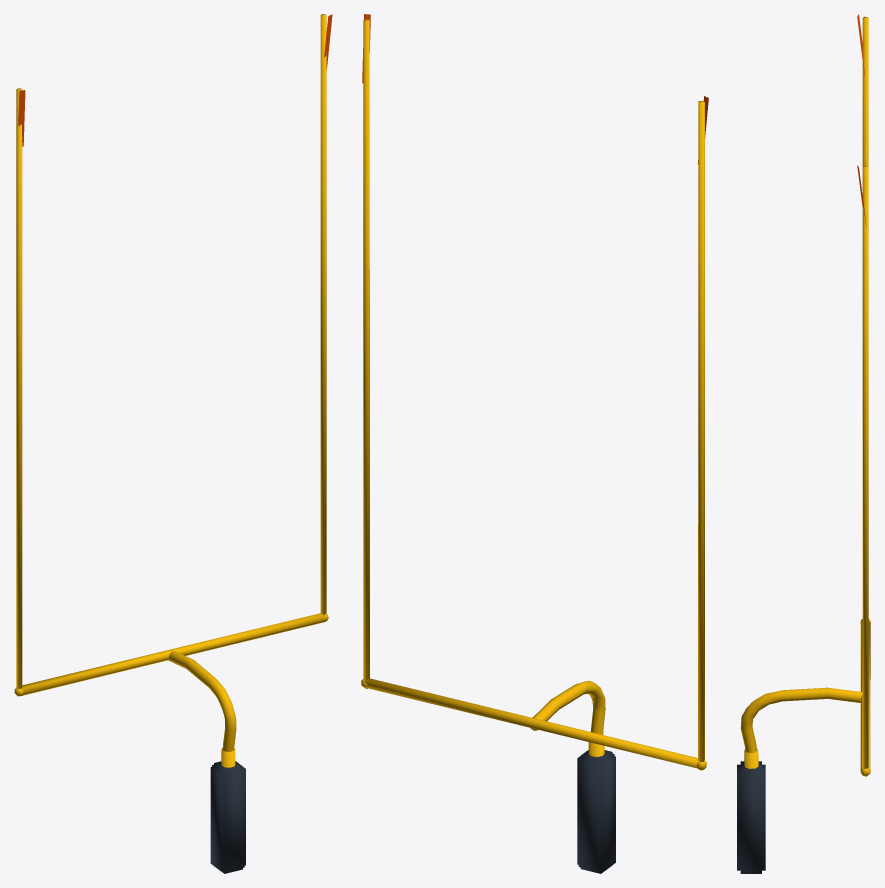
The model's file is goalpost_nfl_lod1.glb.
The picture shows the model from 3 angles, left to right: view 1: azimuth 30°, elevation 25°; view 2: azimuth 150°, elevation 25°; view 3: azimuth 270°, elevation 25°; orthographic projection. The views are drawn at different scales.
Visible parts, largest first — view 1: goalpost_nfl__prop_gold, goalpost_nfl__tint_team_primary; view 2: goalpost_nfl__prop_gold, goalpost_nfl__tint_team_primary; view 3: goalpost_nfl__prop_gold, goalpost_nfl__tint_team_primary.
Part boxes in pixels (x1,y1,x2,y2): goalpost_nfl__prop_gold: [14, 14, 328, 767]; goalpost_nfl__tint_team_primary: [210, 761, 245, 873]; goalpost_nfl__prop_gold: [361, 19, 706, 770]; goalpost_nfl__tint_team_primary: [577, 750, 615, 873]; goalpost_nfl__prop_gold: [740, 16, 870, 776]; goalpost_nfl__tint_team_primary: [737, 761, 765, 873].
Size of the model in its own units: 5.83 by 13.76 by 2.14.
